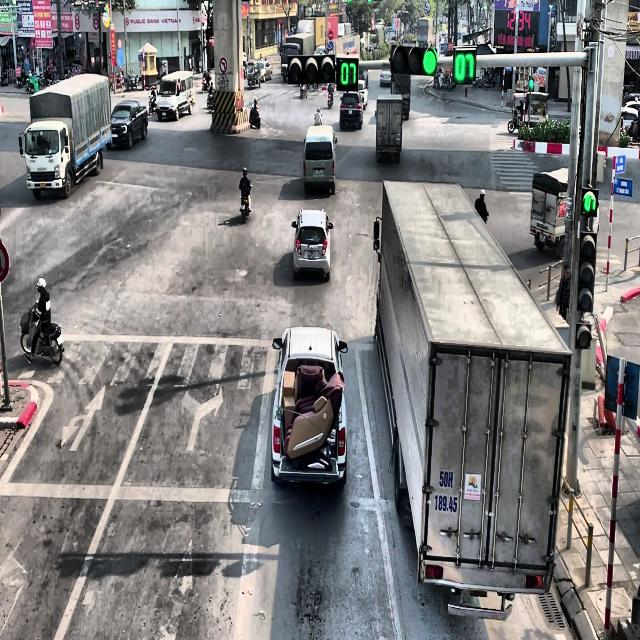CAR: (270, 325, 348, 488), (292, 208, 334, 281), (110, 99, 148, 149), (339, 91, 364, 131), (380, 69, 391, 86)
MOTORBIKE: (20, 302, 64, 365), (240, 182, 252, 224), (508, 104, 522, 133), (248, 104, 260, 128), (148, 92, 156, 114), (327, 88, 334, 108), (299, 83, 307, 98)
TRAFFIC_LIGHT: (577, 229, 596, 313), (389, 44, 438, 76), (286, 53, 336, 84), (453, 46, 477, 83), (336, 56, 359, 90), (580, 187, 598, 217), (528, 76, 534, 92)
TRUCK: (373, 178, 573, 619), (18, 72, 112, 199), (530, 166, 570, 258)
